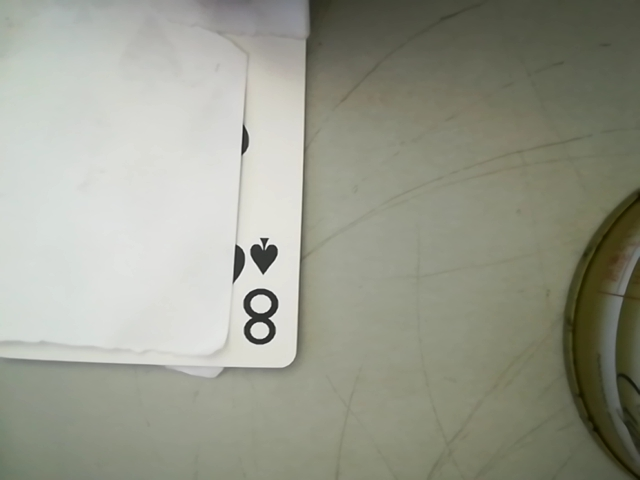ht 8: (220, 225, 293, 355)
